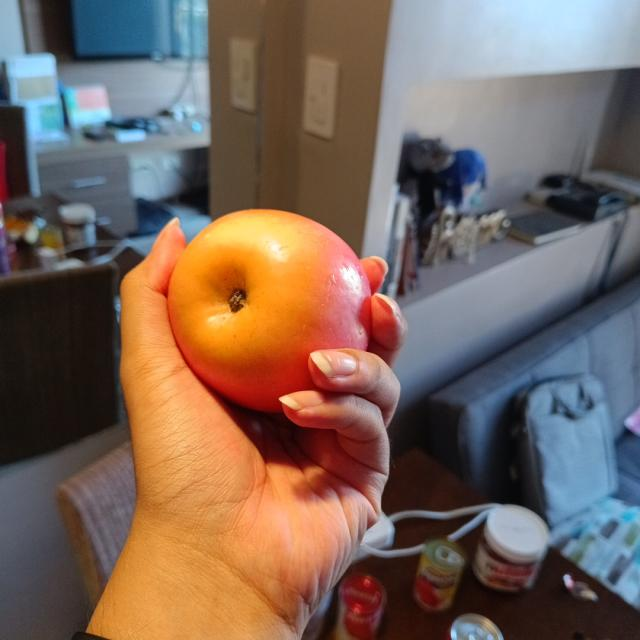apple: (168, 210, 370, 410)
